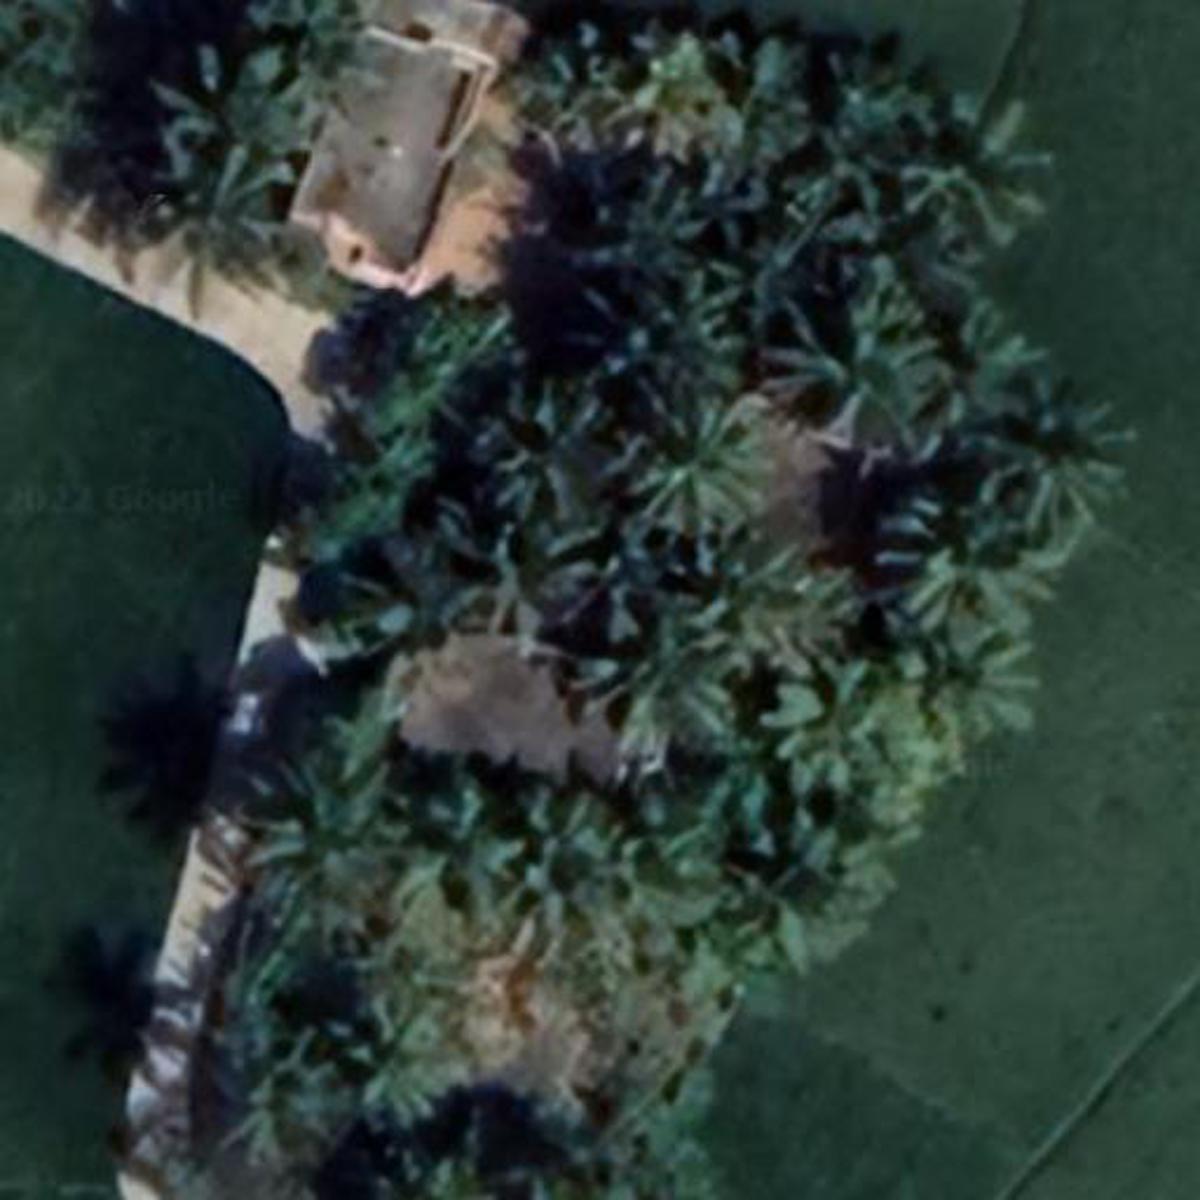coconut: (238, 752, 435, 935), (116, 154, 314, 318), (653, 780, 827, 965), (890, 84, 1057, 255), (897, 496, 1075, 656), (574, 618, 764, 759), (780, 292, 944, 452), (489, 367, 632, 538), (149, 37, 335, 168), (616, 32, 803, 162), (757, 651, 918, 799), (635, 384, 787, 538), (499, 768, 632, 944), (965, 400, 1138, 532), (745, 166, 902, 302), (393, 785, 529, 937), (438, 529, 600, 656), (338, 982, 478, 1125), (914, 274, 1051, 419), (205, 1038, 351, 1171), (914, 642, 1066, 766), (574, 166, 724, 288), (621, 267, 757, 393), (499, 30, 621, 145), (816, 42, 944, 152), (693, 557, 846, 644), (241, 7, 367, 70)
